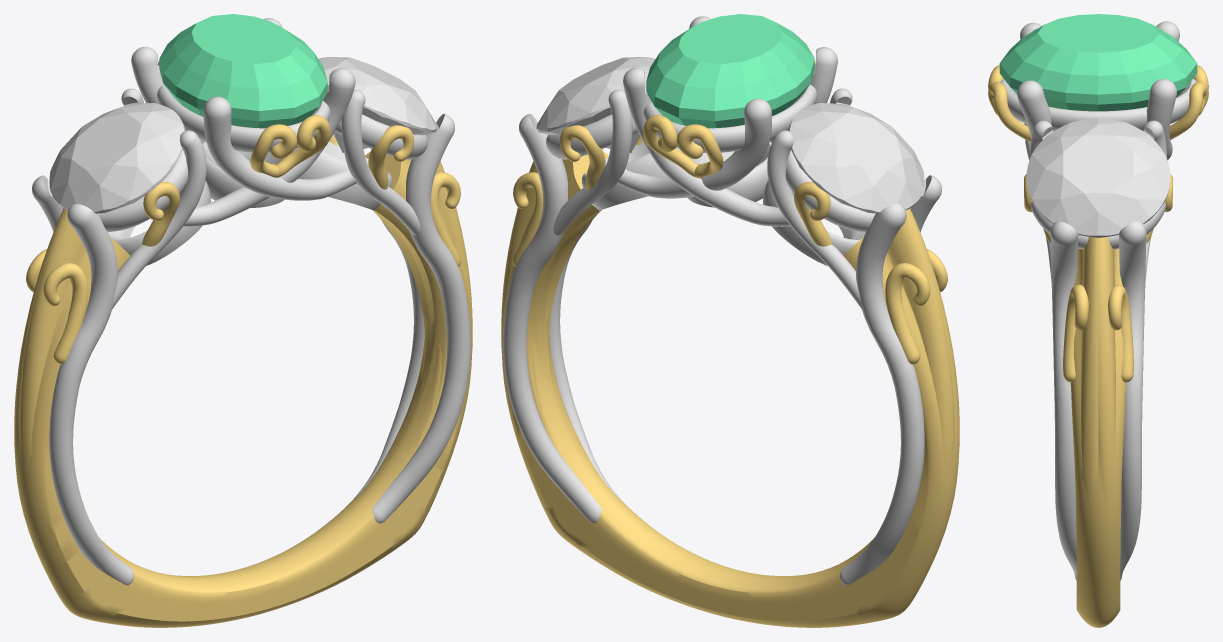
The model's file is BlaineNEWptygV4.glb.
3 views of the same model, side by side, from view 1: azimuth 30°, elevation 25°; view 2: azimuth 150°, elevation 25°; view 3: azimuth 270°, elevation 25° (orthographic). The views are drawn at different scales.
Parts seen in each view (by area): view 1: V4 Blaine YG for 3d model, V4 Blaine PT for 3d model, Blaine garnet for 3d model, Blaine dia for 3d model.001, Blaine dia for 3d model; view 2: V4 Blaine YG for 3d model, V4 Blaine PT for 3d model, Blaine garnet for 3d model, Blaine dia for 3d model.001, Blaine dia for 3d model; view 3: V4 Blaine YG for 3d model, V4 Blaine PT for 3d model, Blaine garnet for 3d model, Blaine dia for 3d model.
Part boxes in pixels (x1=…): V4 Blaine YG for 3d model: x1=14, y1=61, x2=472, y2=627; V4 Blaine PT for 3d model: x1=32, y1=18, x2=470, y2=585; Blaine garnet for 3d model: x1=159, y1=14, x2=327, y2=128; Blaine dia for 3d model.001: x1=49, y1=103, x2=184, y2=213; Blaine dia for 3d model: x1=318, y1=57, x2=437, y2=152; V4 Blaine YG for 3d model: x1=501, y1=61, x2=959, y2=627; V4 Blaine PT for 3d model: x1=503, y1=16, x2=941, y2=585; Blaine garnet for 3d model: x1=646, y1=14, x2=814, y2=128; Blaine dia for 3d model.001: x1=789, y1=103, x2=924, y2=213; Blaine dia for 3d model: x1=536, y1=57, x2=655, y2=152; V4 Blaine YG for 3d model: x1=988, y1=65, x2=1208, y2=627; V4 Blaine PT for 3d model: x1=1000, y1=21, x2=1196, y2=580; Blaine garnet for 3d model: x1=999, y1=14, x2=1197, y2=111; Blaine dia for 3d model: x1=1026, y1=118, x2=1170, y2=237.
Size of the model in its own units: 20.5 by 25.08 by 9.05.
